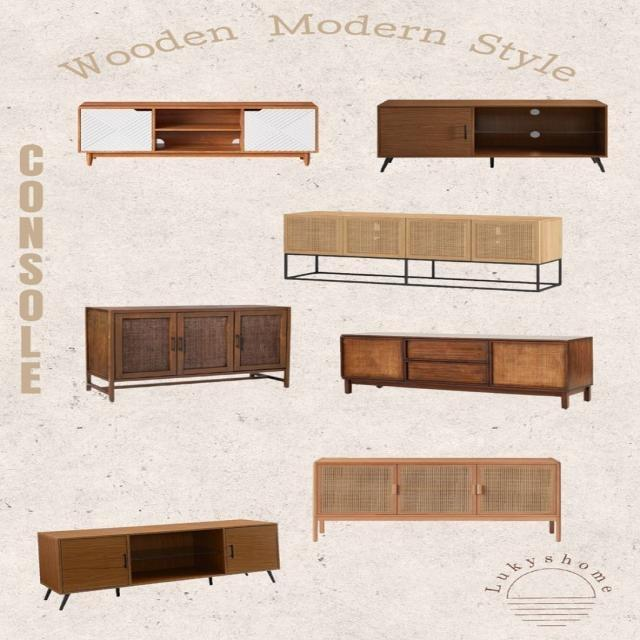obstacle: (36, 518, 280, 610), (292, 209, 560, 289), (84, 304, 290, 402), (339, 332, 593, 409), (314, 458, 560, 535), (376, 99, 608, 172), (76, 100, 320, 166)
